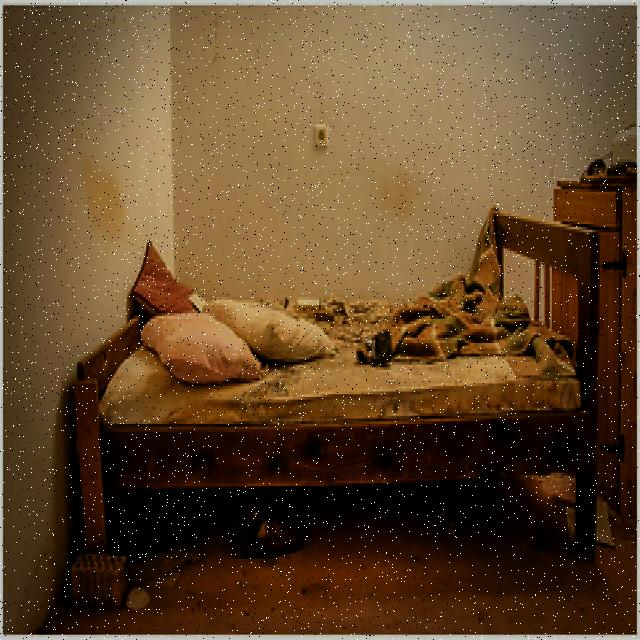bed: (88, 246, 588, 524)
